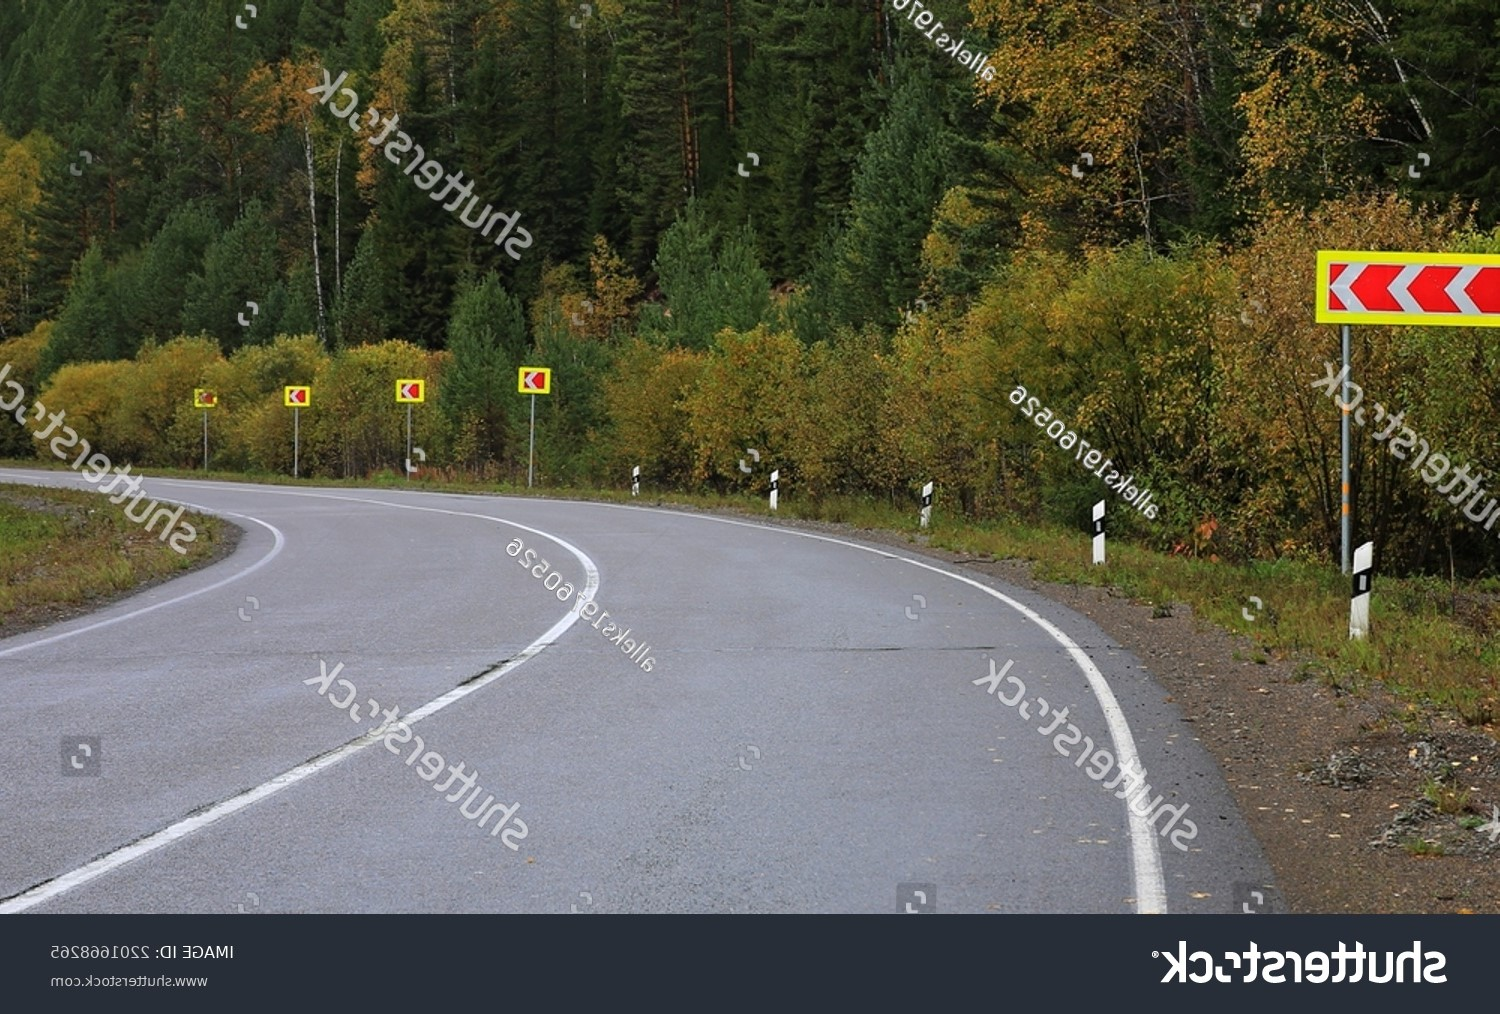leftTrun: (182, 458, 811, 910)
